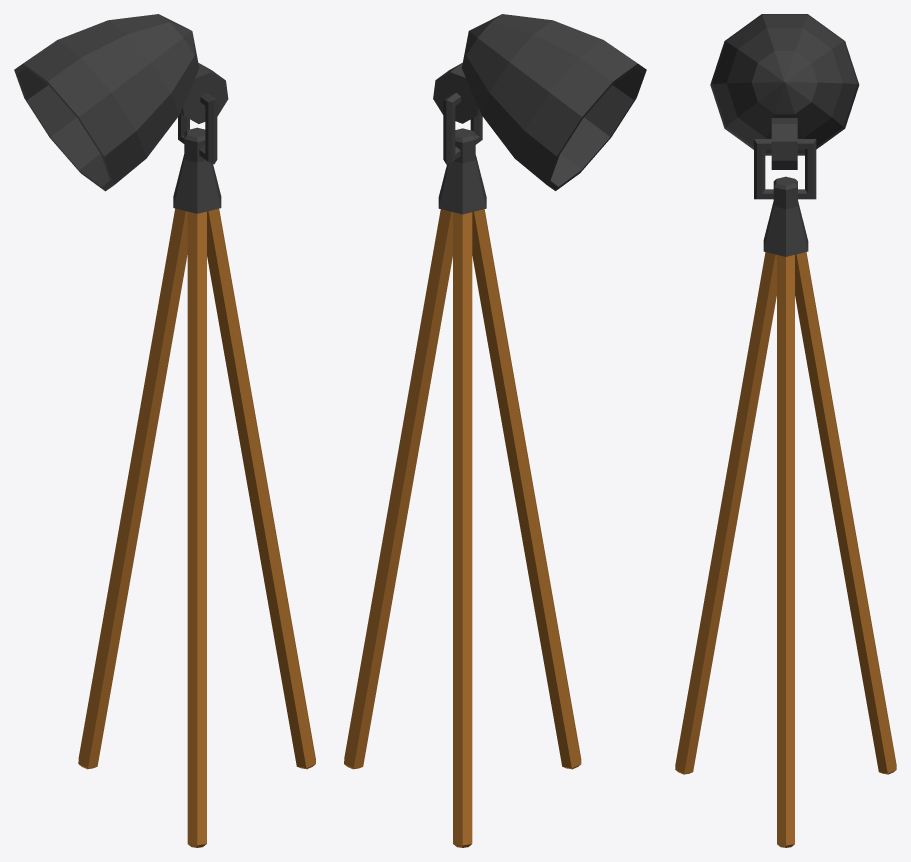
File: Lamp.fbx
3 renders of one model, left to right at view 1: azimuth 30°, elevation 25°; view 2: azimuth 150°, elevation 25°; view 3: azimuth 270°, elevation 25°, orthographic. The views are drawn at different scales.
Visible parts, largest first — view 1: Cylinder398, Cylinder400; view 2: Cylinder398, Cylinder400; view 3: Cylinder398, Cylinder400.
Part boxes in pixels (<box>): Cylinder398: <box>78,93,315,847</box>; Cylinder400: <box>14,14,228,191</box>; Cylinder398: <box>344,92,581,847</box>; Cylinder400: <box>433,14,646,190</box>; Cylinder398: <box>675,139,896,847</box>; Cylinder400: <box>710,14,859,169</box>.
Size of the model in its own units: 58.15 by 155 by 42.55.
